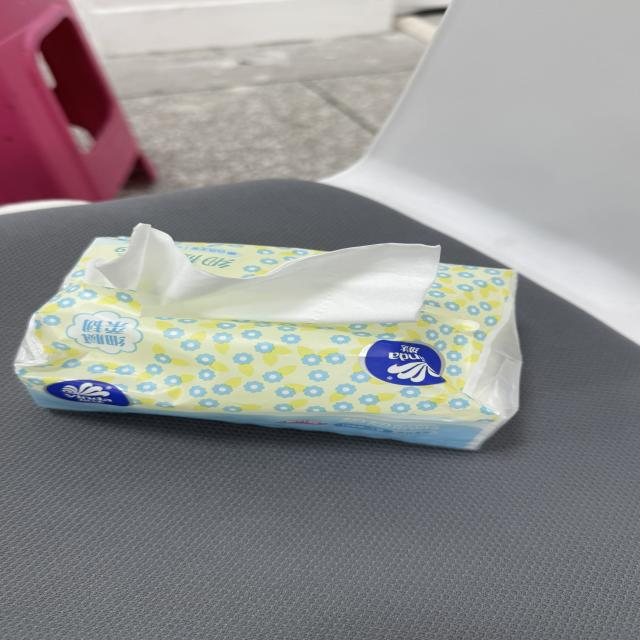tissue: (16, 238, 520, 448), (86, 224, 440, 322)
